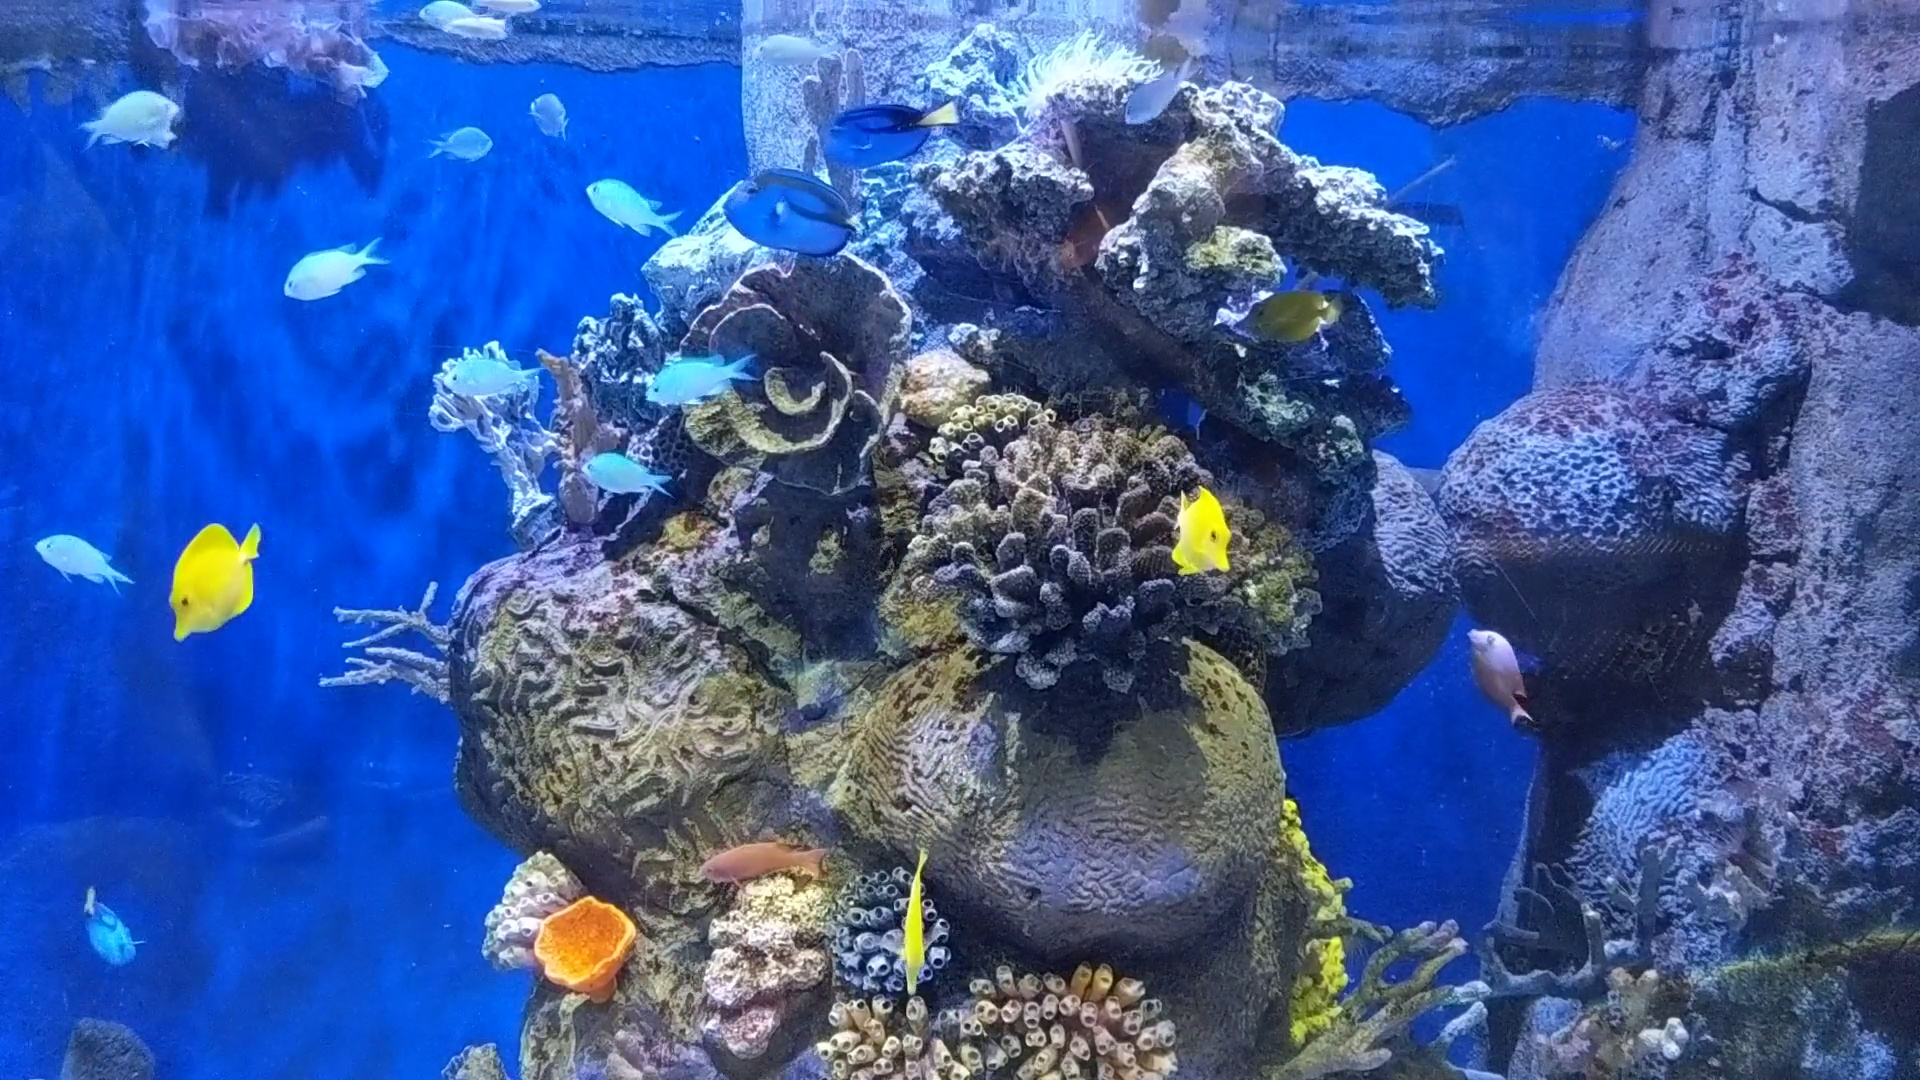blue tang surgeonfish: (713, 157, 880, 258), (814, 84, 963, 164), (76, 851, 154, 993)
damselfish: (67, 69, 193, 164), (268, 219, 390, 313), (29, 514, 137, 607), (636, 328, 760, 407), (434, 340, 553, 411), (572, 171, 686, 245), (568, 438, 682, 506), (1106, 53, 1207, 129), (414, 105, 502, 173), (516, 75, 584, 146)
pink fish: (1460, 607, 1548, 744)
saddle butterfly fish: (146, 512, 280, 651), (1135, 473, 1247, 589), (1230, 262, 1358, 349)
